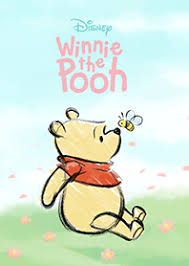Winnie: (41, 110, 124, 198)
